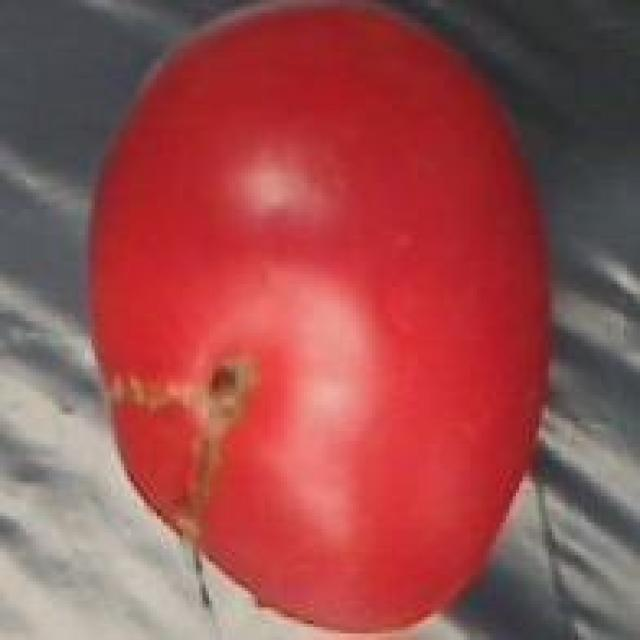overripe tomato: (82, 0, 565, 640)
